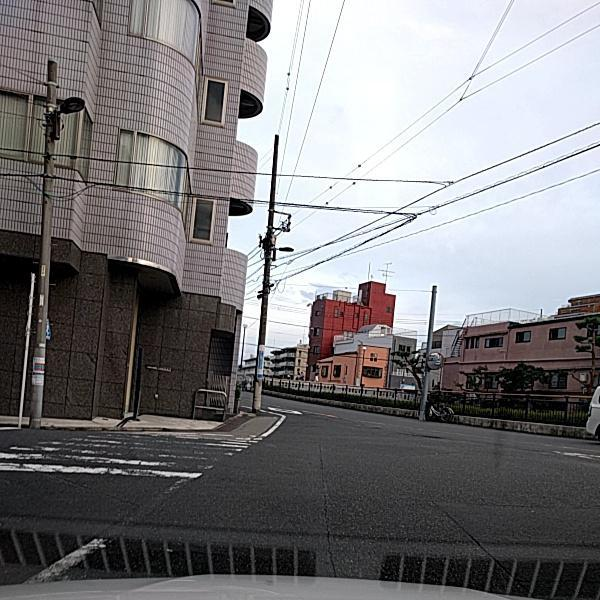D00: (311, 479, 351, 579)
D43: (1, 428, 257, 521)
